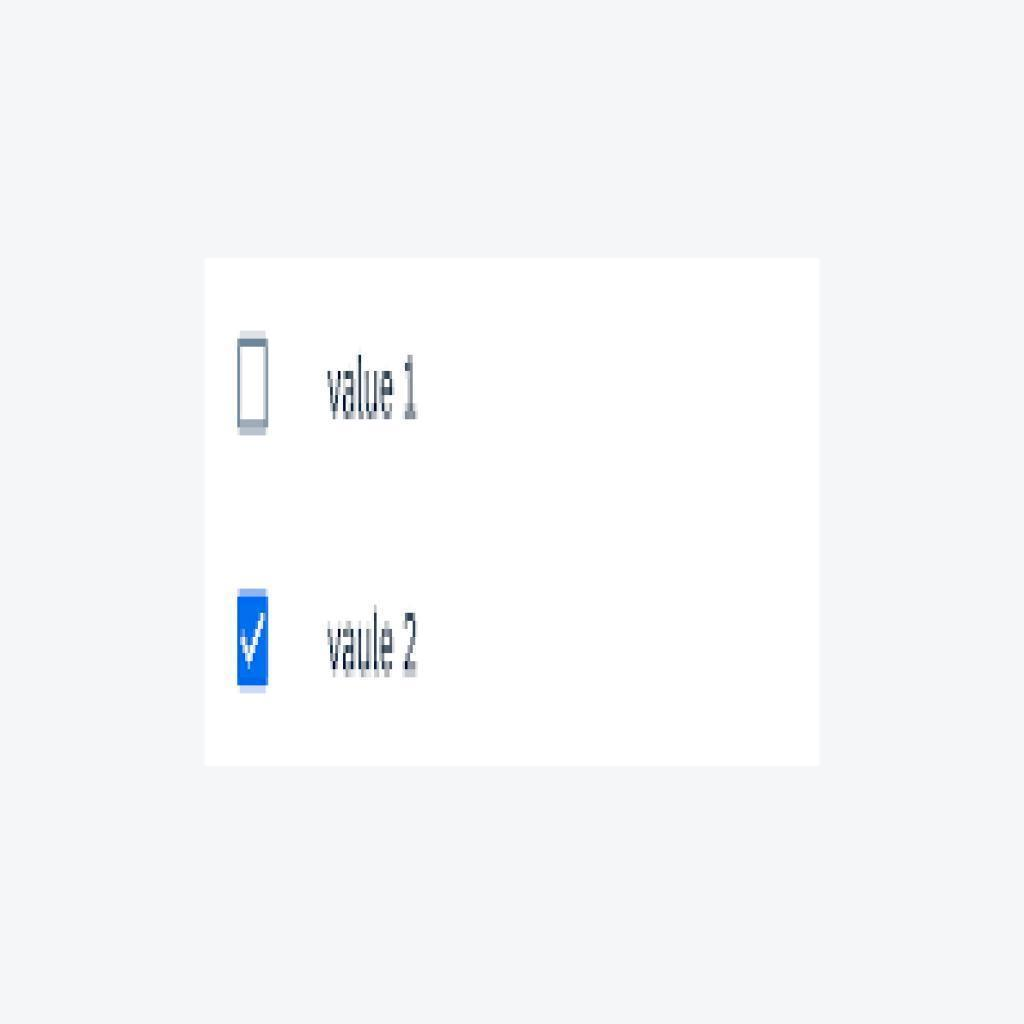checkbox: (234, 336, 270, 428), (239, 591, 267, 689)
